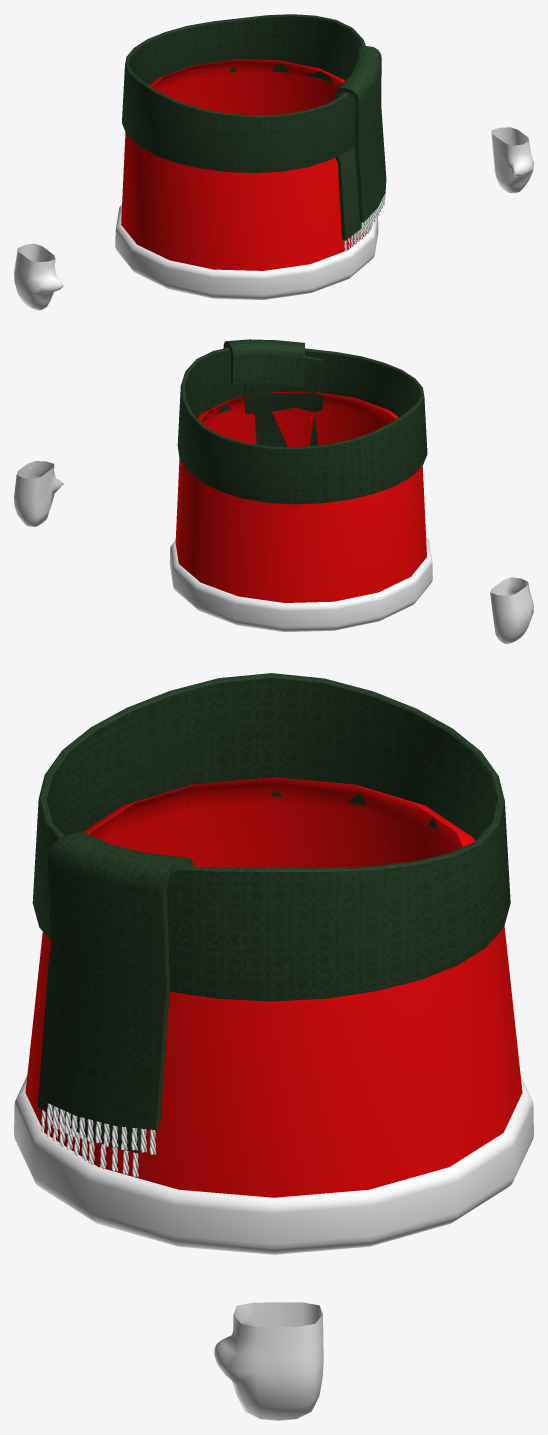
Rendered from Santa.fbx.
3 views of the same model, one above another, from view 1: azimuth 30°, elevation 25°; view 2: azimuth 150°, elevation 25°; view 3: azimuth 270°, elevation 25° (orthographic). The views are drawn at different scales.
Visible parts, largest first — view 1: Cylinder001, Circle001, Object001, Object002, Helix003; view 2: Cylinder001, Circle001, Object002, Object001; view 3: Cylinder001, Circle001, Object002, Helix003.
Boxes of the visible parts, x1,y1,x2,y2 form: Cylinder001: (115, 59, 378, 299); Circle001: (122, 14, 386, 240); Object001: (14, 243, 63, 310); Object002: (491, 127, 533, 193); Helix003: (344, 189, 385, 251); Cylinder001: (169, 391, 432, 632); Circle001: (177, 339, 427, 504); Object002: (14, 461, 63, 526); Object001: (490, 577, 533, 644); Cylinder001: (14, 777, 533, 1254); Circle001: (32, 673, 510, 1153); Object002: (214, 1302, 323, 1420); Helix003: (41, 1103, 156, 1177).
Bounding box in the file's own units: 67.95 × 26.39 × 30.91.
